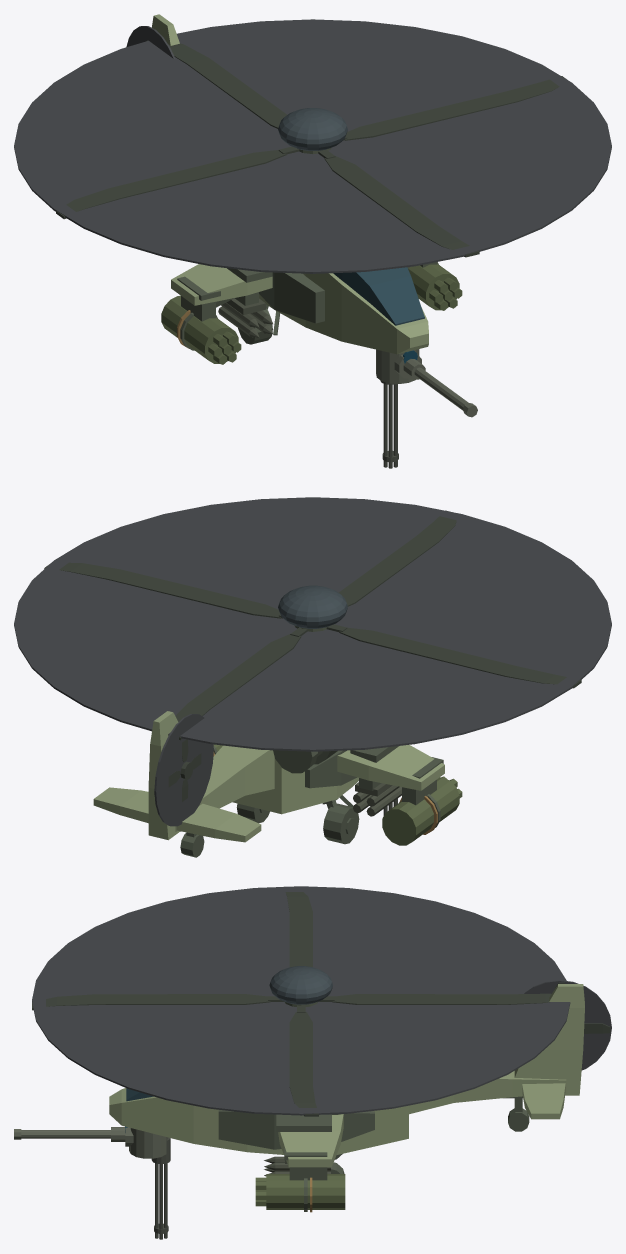
3 views of the same model, one above another, from view 1: azimuth 30°, elevation 25°; view 2: azimuth 150°, elevation 25°; view 3: azimuth 270°, elevation 25° (orthographic). The views are drawn at different scales.
Visible parts, largest first — view 1: RotorBlurMain, MainRotor, Airframe, AirframeDark, Canopy, PodRocketR, RadarDome, PodRocketL, ChinGatling, ChinBarrel, ChinTurret, RotorBlurTail; view 2: RotorBlurMain, Airframe, MainRotor, AirframeDark, RotorBlurTail, PodRocketR, RadarDome, TailRotor; view 3: RotorBlurMain, Airframe, MainRotor, AirframeDark, PodRocketL, RadarDome, RotorBlurTail, ChinGatling, ChinBarrel, ChinTurret.
Part boxes in pixels (bbox=[...]): RotorBlurMain: bbox=[14, 19, 611, 273]; MainRotor: bbox=[56, 40, 566, 257]; Airframe: bbox=[152, 14, 428, 354]; AirframeDark: bbox=[177, 147, 438, 350]; Canopy: bbox=[333, 267, 424, 325]; PodRocketR: bbox=[161, 295, 241, 364]; RadarDome: bbox=[278, 108, 347, 150]; PodRocketL: bbox=[408, 263, 462, 310]; ChinGatling: bbox=[380, 380, 398, 468]; ChinBarrel: bbox=[403, 359, 477, 417]; ChinTurret: bbox=[376, 349, 421, 383]; RotorBlurTail: bbox=[126, 26, 175, 58]; RotorBlurMain: bbox=[14, 497, 611, 751]; Airframe: bbox=[93, 711, 444, 842]; MainRotor: bbox=[44, 510, 581, 740]; AirframeDark: bbox=[180, 625, 443, 857]; RotorBlurTail: bbox=[154, 714, 213, 826]; PodRocketR: bbox=[382, 776, 462, 845]; RadarDome: bbox=[278, 585, 347, 628]; TailRotor: bbox=[154, 739, 201, 801]; RotorBlurMain: bbox=[32, 886, 570, 1115]; Airframe: bbox=[109, 984, 584, 1167]; MainRotor: bbox=[32, 886, 551, 1116]; AirframeDark: bbox=[218, 1002, 529, 1211]; PodRocketL: bbox=[255, 1174, 345, 1209]; RadarDome: bbox=[269, 966, 332, 1004]; RotorBlurTail: bbox=[524, 980, 611, 1070]; ChinGatling: bbox=[151, 1137, 170, 1239]; ChinBarrel: bbox=[14, 1127, 125, 1141]; ChinTurret: bbox=[125, 1127, 168, 1158].
Bounding box in the file's own units: 6 × 3.26 × 6.66.
